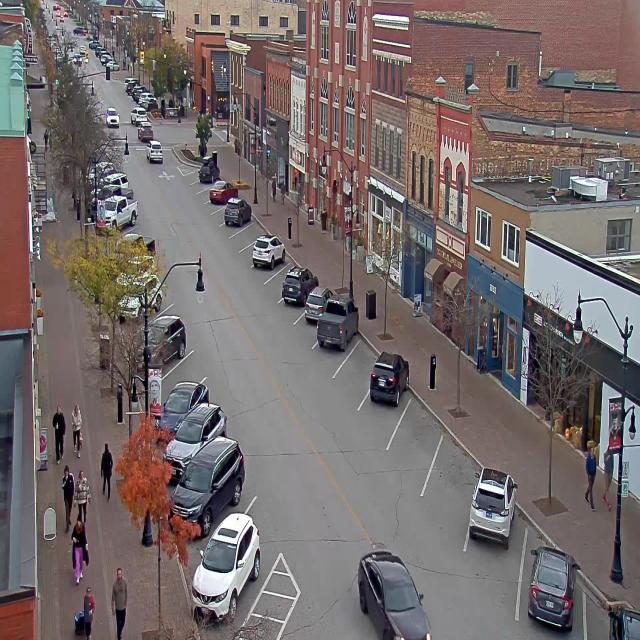available: (394, 389, 446, 468), (426, 433, 472, 521), (159, 340, 213, 389), (341, 332, 378, 392), (261, 252, 296, 294), (240, 211, 263, 245), (195, 178, 214, 210), (238, 237, 258, 265), (210, 205, 226, 226), (185, 165, 198, 186)
occupied: (168, 435, 246, 538), (202, 506, 267, 596), (527, 544, 579, 631), (468, 467, 518, 548), (176, 388, 231, 456), (155, 379, 209, 441), (592, 588, 640, 639), (316, 296, 358, 352), (368, 350, 409, 406), (143, 314, 187, 364), (282, 264, 318, 305), (252, 232, 285, 269), (303, 285, 332, 327), (224, 197, 252, 227), (197, 159, 220, 184), (209, 182, 234, 204)
